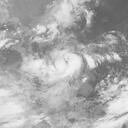cyclone: (27, 50, 89, 101)
